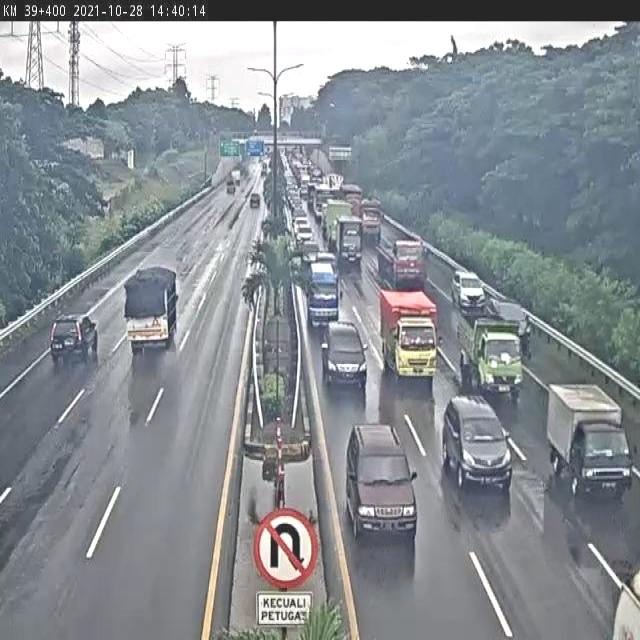Bus: (307, 263, 343, 328)
Car: (347, 421, 417, 540), (444, 397, 514, 495), (322, 321, 369, 391), (50, 312, 100, 370), (486, 294, 531, 344), (452, 270, 486, 312), (300, 240, 320, 270), (316, 252, 340, 277), (296, 225, 314, 245), (293, 217, 309, 230), (250, 192, 261, 207)
Truck: (547, 380, 633, 501), (456, 312, 523, 398), (378, 288, 439, 381), (124, 264, 179, 351), (376, 236, 426, 289), (334, 213, 364, 269), (325, 197, 352, 241), (338, 183, 364, 218), (362, 198, 382, 243), (314, 182, 337, 217), (300, 175, 310, 196)
